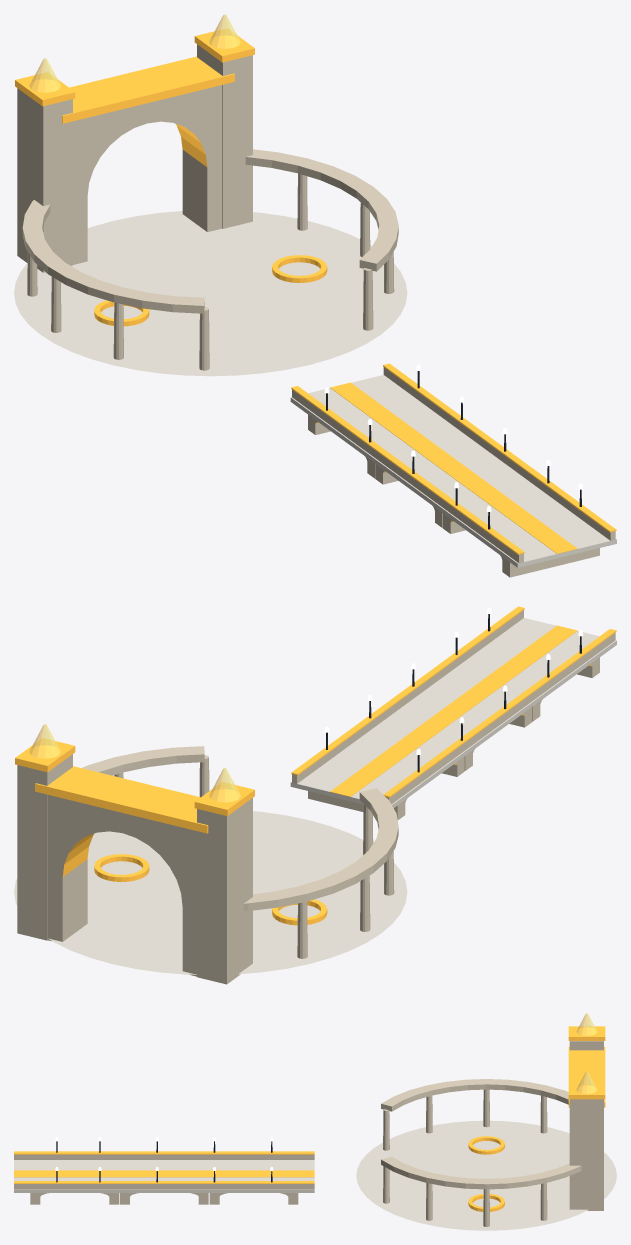
The model's file is gate_and_bridge.glb.
The picture shows the model from 3 angles, top to bottom: view 1: azimuth 30°, elevation 25°; view 2: azimuth 150°, elevation 25°; view 3: azimuth 270°, elevation 25°; orthographic projection. The views are drawn at different scales.
Visible parts, largest first — view 1: RoyalSouthGate, CardinalBridge; view 2: RoyalSouthGate, CardinalBridge; view 3: RoyalSouthGate, CardinalBridge.
Part boxes in pixels (x1,y1,x2,y2): RoyalSouthGate: [14, 14, 407, 376]; CardinalBridge: [290, 363, 616, 577]; RoyalSouthGate: [14, 724, 407, 984]; CardinalBridge: [290, 606, 616, 820]; RoyalSouthGate: [356, 1013, 616, 1230]; CardinalBridge: [14, 1137, 314, 1204].
Bounding box in the file's own units: 36.4 × 22.7 × 84.2.
